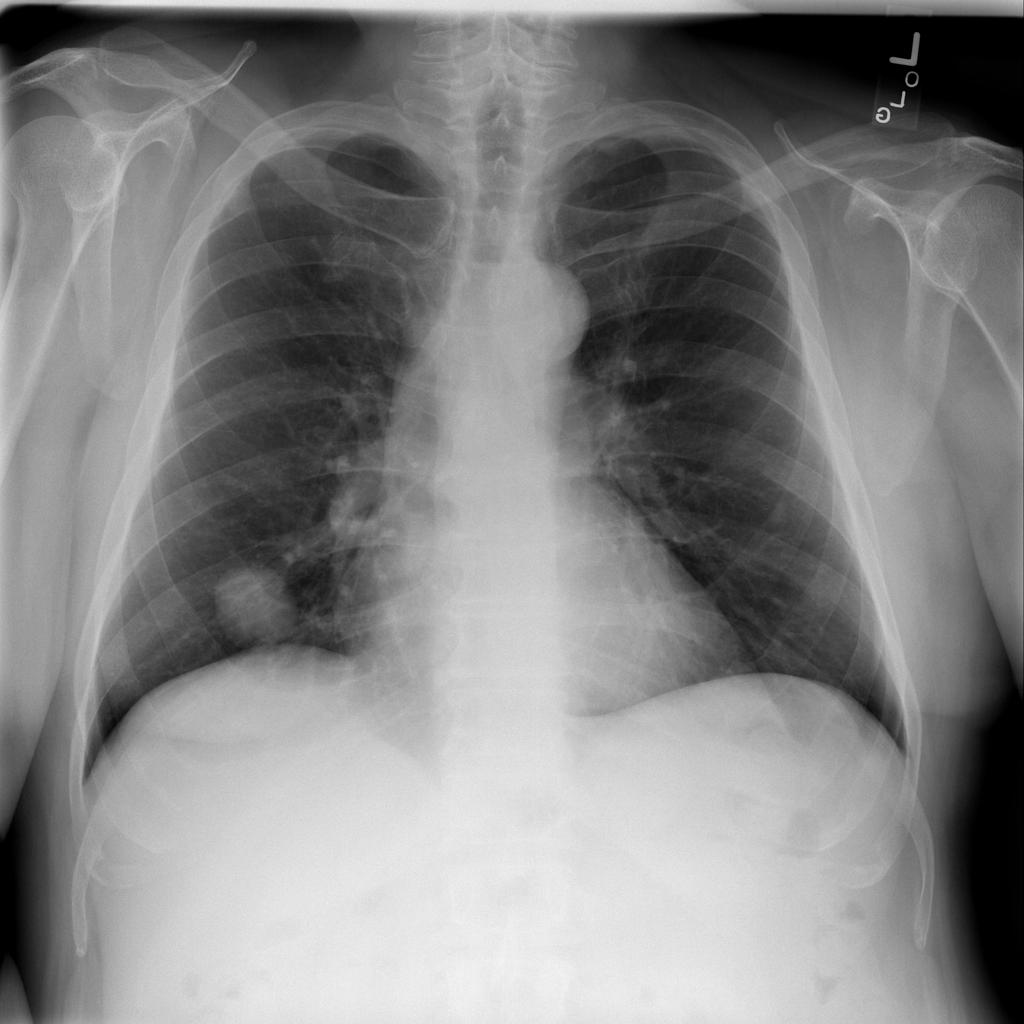nodule: (195, 548, 313, 661), (747, 472, 816, 542)
